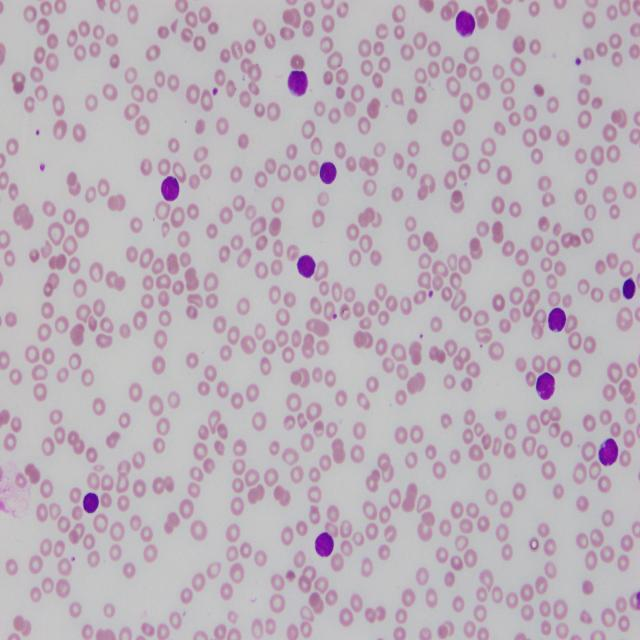cell: (599, 438, 619, 467), (288, 70, 308, 97), (536, 372, 555, 400), (161, 175, 180, 202), (456, 10, 475, 37), (315, 532, 334, 557), (548, 308, 566, 332), (298, 255, 316, 278), (82, 493, 99, 513), (320, 162, 336, 183), (622, 278, 635, 298)
